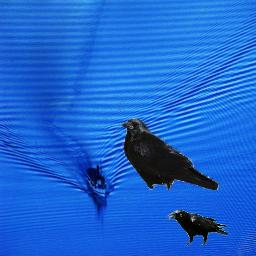Crow: (120, 118, 219, 190), (166, 210, 228, 246)
